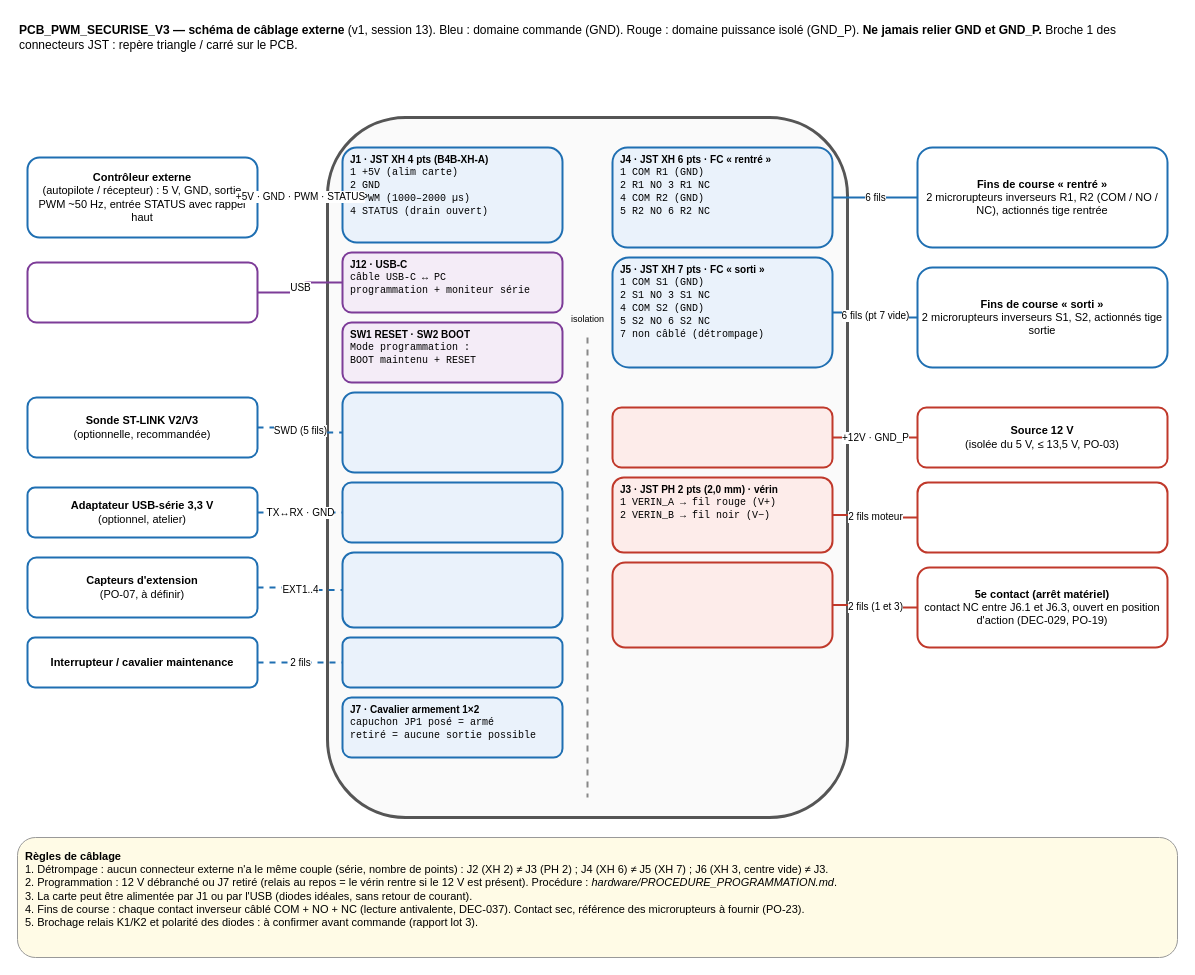
Image size: 1195x975. Some labels were removed from this diagram. The box of each missing label's shape, as (x1, y1, x2, y2) in pixels:
CARTE STM32G071 · relais K1 / K2 · barrière d'isolation: (326, 116, 848, 818)
J10 · UART2 1×3 2,54 1 TX 2 RX 3 GND (3,3 V, croiser TX/RX): (341, 481, 563, 543)
J11 · Maintenance 1×2 1 MAINT 2 GND (fermé = actif): (341, 636, 563, 688)
J2 · JST XH 2 pts · entrée 12 V 1 +12V 2 GND_P: (611, 406, 833, 468)
J6 · JST XH 3 pts · 5e contact 1 +12V_P 2 non câblé (détrompage) 3 NO_FEED: (611, 561, 833, 648)
J8 · Extension 1×6 2,54 1 +3V3_EXT 2 EXT1 3 EXT2 4 EXT3 5 EXT4 6 GND: (341, 551, 563, 628)
J9 · SWD 1×5 2,54 1 +3V3 2 SWDIO 3 SWCLK 4 NRST 5 GND (recours : sonde ST-LINK): (341, 391, 563, 473)
PC Arduino IDE · STM32CubeProgrammer: (26, 261, 258, 323)
Vérin Actuonix L12-…-12-S rouge = V+, noir = V−. Repos des relais = rentrée: (916, 481, 1168, 553)
